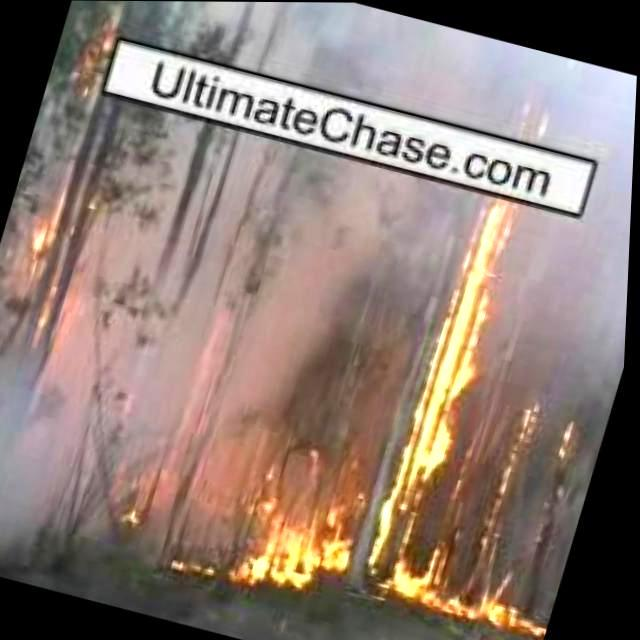fire: (352, 101, 552, 608), (213, 479, 375, 601), (3, 192, 105, 344), (422, 551, 561, 640), (488, 394, 548, 534), (115, 458, 163, 538), (77, 20, 127, 88), (554, 417, 582, 475)
